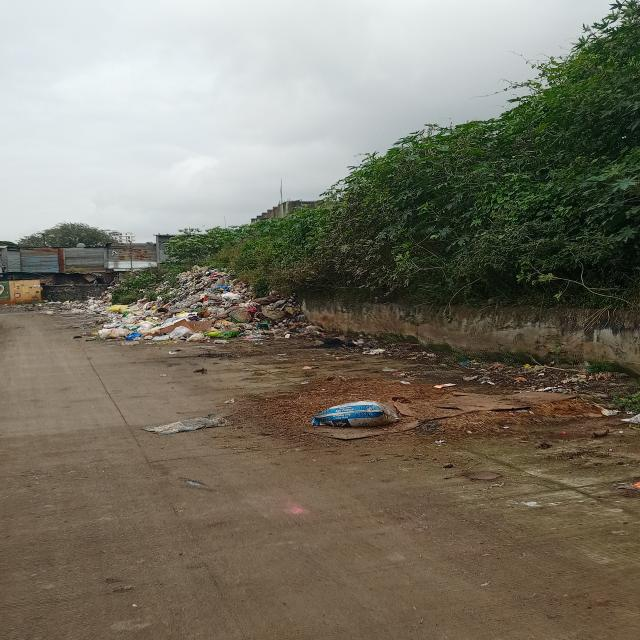garbage: (89, 264, 298, 342)
